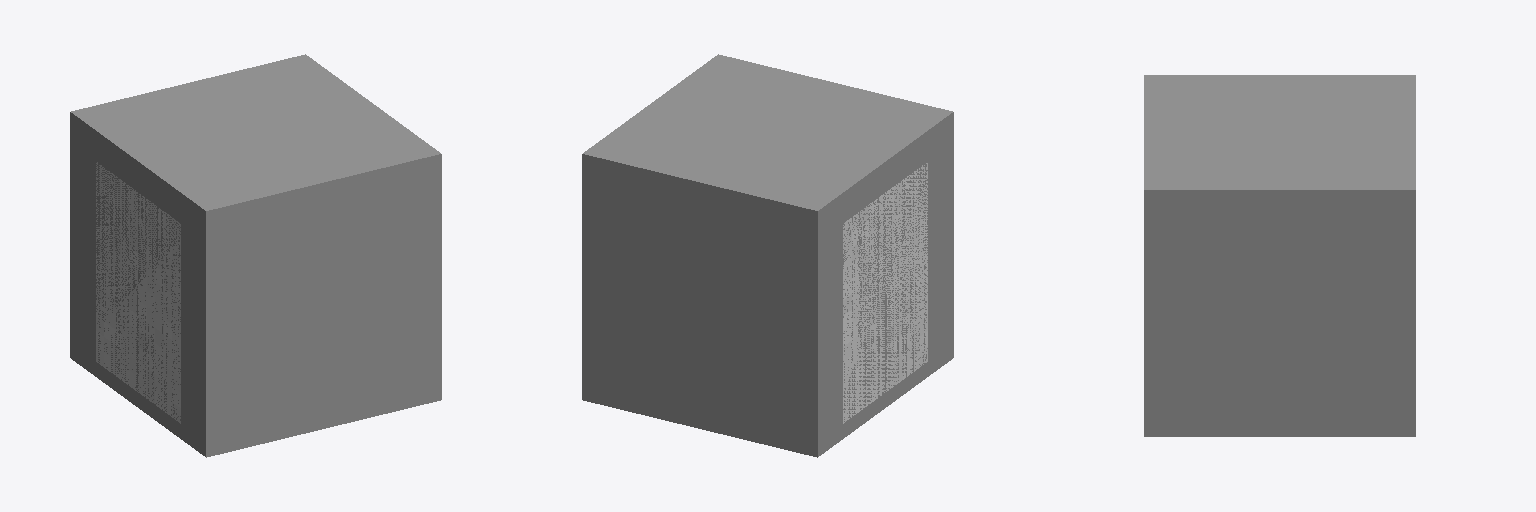
3 renders of one model, left to right at view 1: azimuth 30°, elevation 25°; view 2: azimuth 150°, elevation 25°; view 3: azimuth 270°, elevation 25°, orthographic.
Parts seen in each view (by area): view 1: Minecraft_Block_Cube, Minecraft_2_Edge_Connectivity_Cube.002, main; view 2: Minecraft_Block_Cube, Minecraft_2_Edge_Connectivity_Cube.002, main; view 3: Minecraft_Block_Cube, Minecraft_2_Edge_Connectivity_Cube.002.
Part boxes in pixels (bbox=[...]): Minecraft_Block_Cube: bbox=[71, 54, 441, 457]; Minecraft_2_Edge_Connectivity_Cube.002: bbox=[70, 112, 255, 456]; main: bbox=[96, 162, 180, 423]; Minecraft_Block_Cube: bbox=[582, 54, 952, 457]; Minecraft_2_Edge_Connectivity_Cube.002: bbox=[768, 112, 953, 456]; main: bbox=[843, 163, 927, 423]; Minecraft_Block_Cube: bbox=[1144, 75, 1415, 436]; Minecraft_2_Edge_Connectivity_Cube.002: bbox=[1146, 75, 1414, 132].
Size of the model in its own units: 1 by 1 by 1.
Materials: 2 (1 with a texture image).